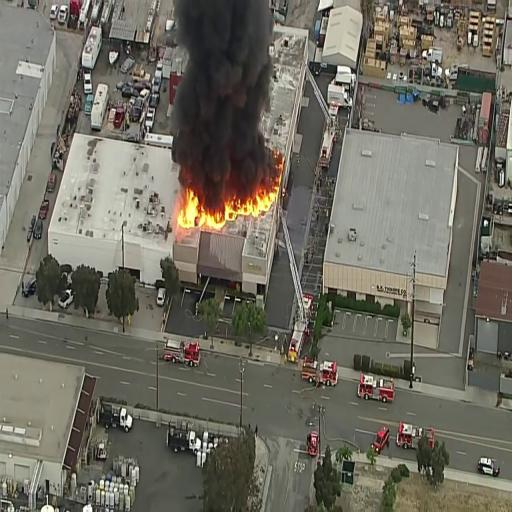fire: (209, 186, 276, 227), (174, 184, 222, 236)
smoke: (182, 0, 271, 176)
